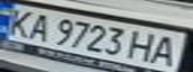2: (87, 21, 109, 55)
3: (103, 24, 130, 57)
7: (66, 19, 90, 52)
9: (48, 16, 75, 47)
A: (145, 33, 187, 66), (21, 11, 57, 43)
H: (124, 28, 163, 63)
K: (0, 6, 39, 38)
